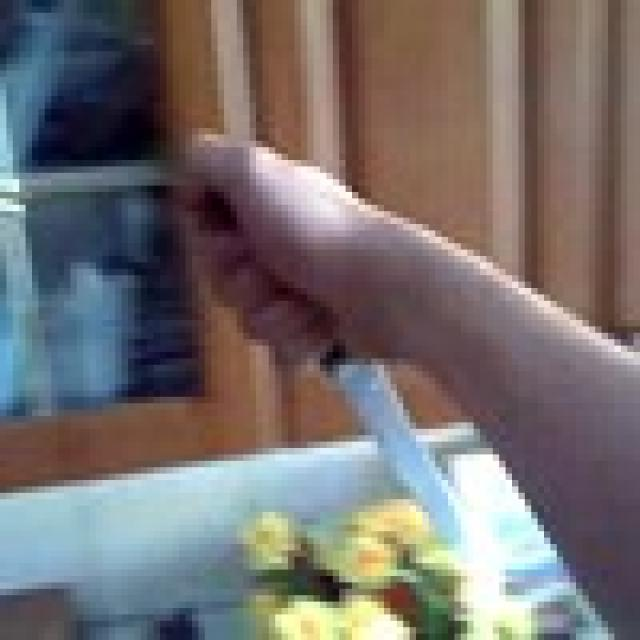Knife: (204, 192, 473, 544)
